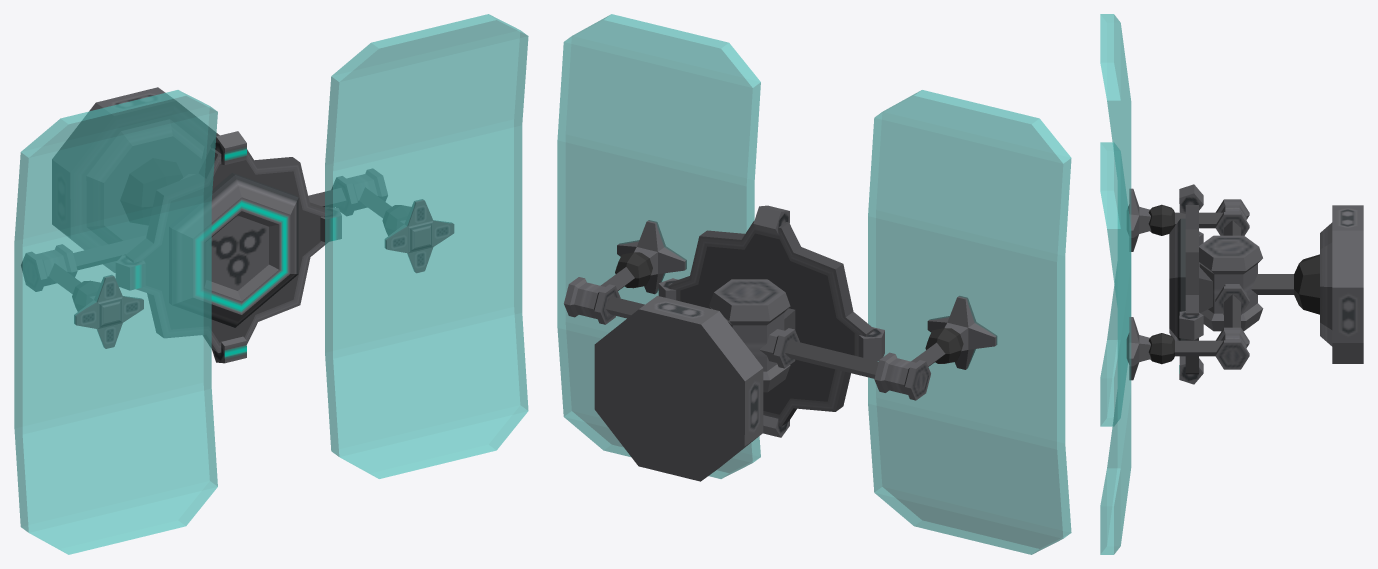
File: SM_Prop_Satellite_03.fbx
3 views of the same model, side by side, from view 1: azimuth 30°, elevation 25°; view 2: azimuth 150°, elevation 25°; view 3: azimuth 270°, elevation 25° (orthographic). The views are drawn at different scales.
Visible parts, largest first — view 1: SM_Prop_Satellite_03_Dish_01, SM_Prop_Satellite_03_Dish_02, SM_Prop_Satellite_03, SM_Prop_Satellite_03_Arm_02, SM_Prop_Satellite_03_Arm_01; view 2: SM_Prop_Satellite_03_Dish_02, SM_Prop_Satellite_03, SM_Prop_Satellite_03_Dish_01, SM_Prop_Satellite_03_Arm_01, SM_Prop_Satellite_03_Arm_02; view 3: SM_Prop_Satellite_03, SM_Prop_Satellite_03_Dish_01, SM_Prop_Satellite_03_Dish_02, SM_Prop_Satellite_03_Arm_01, SM_Prop_Satellite_03_Arm_02.
Boxes of the visible parts, bbox=[...] form: SM_Prop_Satellite_03_Dish_01: bbox=[325, 14, 528, 478]; SM_Prop_Satellite_03_Dish_02: bbox=[14, 90, 217, 554]; SM_Prop_Satellite_03: bbox=[21, 87, 387, 363]; SM_Prop_Satellite_03_Arm_02: bbox=[49, 263, 100, 311]; SM_Prop_Satellite_03_Arm_01: bbox=[359, 187, 410, 235]; SM_Prop_Satellite_03_Dish_02: bbox=[868, 90, 1071, 554]; SM_Prop_Satellite_03: bbox=[564, 205, 930, 481]; SM_Prop_Satellite_03_Dish_01: bbox=[557, 14, 760, 478]; SM_Prop_Satellite_03_Arm_01: bbox=[600, 252, 652, 290]; SM_Prop_Satellite_03_Arm_02: bbox=[911, 328, 963, 366]; SM_Prop_Satellite_03: bbox=[1169, 184, 1363, 384]; SM_Prop_Satellite_03_Dish_01: bbox=[1100, 142, 1150, 554]; SM_Prop_Satellite_03_Dish_02: bbox=[1100, 14, 1150, 426]; SM_Prop_Satellite_03_Arm_01: bbox=[1148, 333, 1222, 364]; SM_Prop_Satellite_03_Arm_02: bbox=[1148, 204, 1222, 235].
Bounding box in the file's own units: 193 × 159 × 104.
